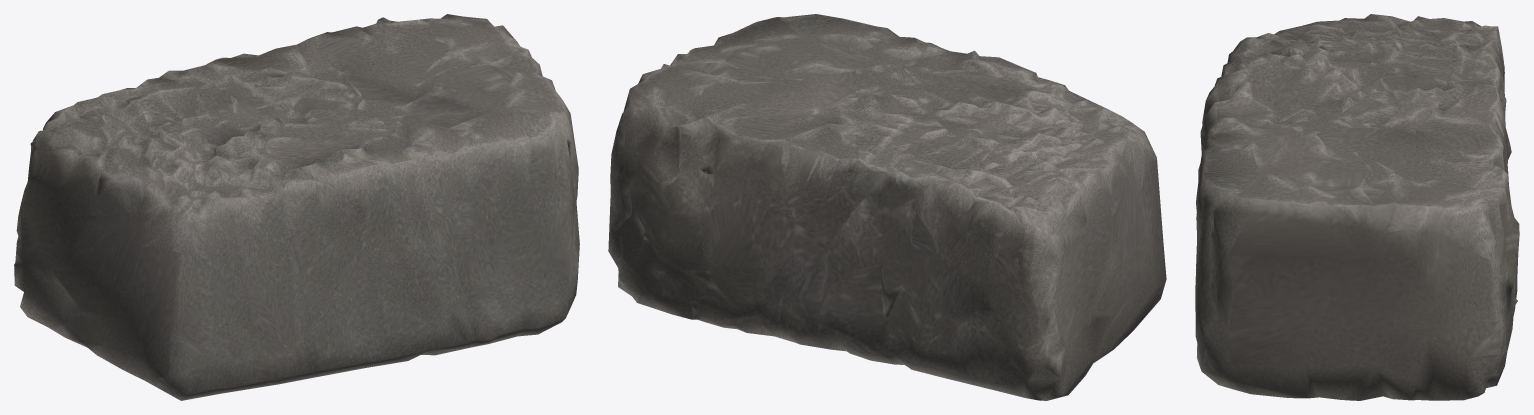
Rendered from wall_block.glb.
3 renders of one model, left to right at view 1: azimuth 30°, elevation 25°; view 2: azimuth 150°, elevation 25°; view 3: azimuth 270°, elevation 25°, orthographic. The views are drawn at different scales.
Size of the model in its own units: 0.1778 by 0.0801 by 0.1106.
1 material, 1 textured.
